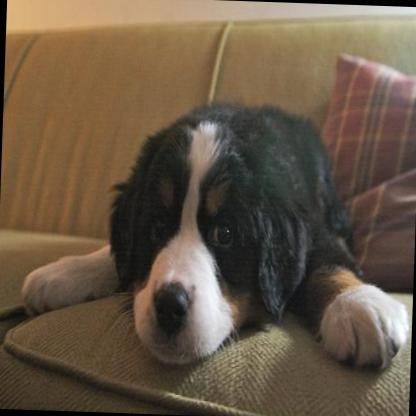Bernese_mountain_dog: (18, 92, 416, 373)
